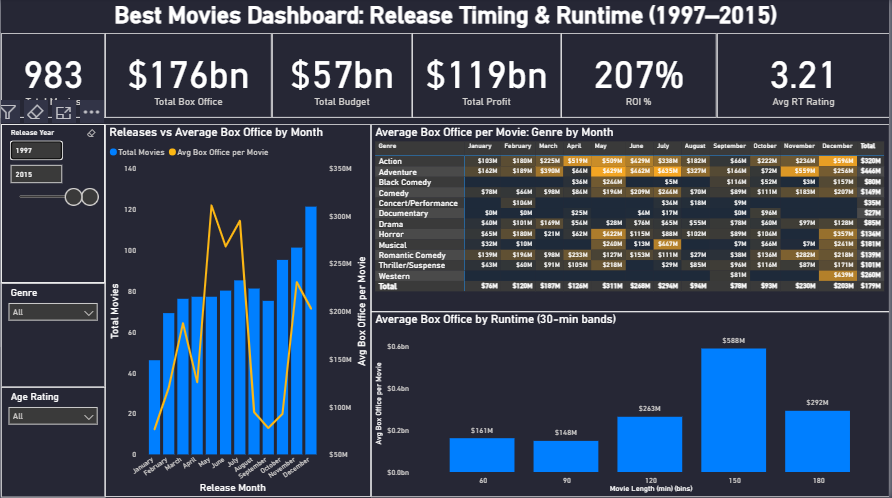

The dashboard page shown, as its layout file describes it:
{"tool":"powerbi","page":{"name":"Release Timing & Runtime","canvas":[1280,720],"ordinal":3},"visuals":[{"type":"textbox","box":[0,0,1280,50.1],"z":0},{"type":"card","fields":{"Values":["Movies Measures.Total Movies"]},"box":[0,50.1,150.4,122.1],"z":1000},{"type":"card","fields":{"Values":["Movies Measures.Total Box Office"]},"box":[150.4,50.1,240.3,122.1],"z":2000},{"type":"card","fields":{"Values":["Movies Measures.Total Budget"]},"box":[390.7,50.1,201.8,122.1],"z":3000},{"type":"card","fields":{"Values":["Movies Measures.Total Profit"]},"box":[592.4,50.1,214.6,122.1],"z":4000},{"type":"card","fields":{"Values":["Movies Measures.ROI %"]},"box":[807.1,50.1,223.6,122.1],"z":5000},{"type":"card","fields":{"Values":["Movies Measures.Avg RT Rating"]},"box":[1030.7,50.1,249.3,122.1],"z":6000},{"type":"slicer","fields":{"Values":["Movies.Release Year"]},"box":[0,181.2,150.4,228.8],"z":7000},{"type":"slicer","fields":{"Values":["Movies.Genre"]},"box":[0,410,150.4,150.4],"z":8000},{"type":"slicer","fields":{"Values":["Movies.Age Rating"]},"box":[0,560.3,150.4,159.4],"z":9000},{"type":"lineClusteredColumnComboChart","title":"Releases vs Average Box Office by Month","fields":{"Category":["Movies.Release Month"],"Y":["Movies Measures.Total Movies"],"Y2":["Movies Measures.Avg Box Office per Movie"]},"box":[149.8,181.4,383,537.1],"z":10000},{"type":"pivotTable","title":"Average Box Office per Movie: Genre by Month","fields":{"Columns":["Movies.Release Month"],"Rows":["Movies.Genre"],"Values":["Movies Measures.Avg Box Office per Movie"]},"box":[532.8,181.4,747.4,270.7],"z":11000},{"type":"clusteredColumnChart","title":"Average Box Office by Runtime (30-min bands)","fields":{"Category":["Movies.Movie Length (min) (bins)"],"Y":["Movies Measures.Avg Box Office per Movie"]},"box":[532.8,450.7,747.4,267.8],"z":12000}]}

Visuals, with their boxes in screenshot pixels (x1, y1, x2, y2), scaled from the page's 1280x720 canvas onto the 892x498 screenshot:
textbox: <region>0, 0, 891, 35</region>
card - Movies Measures.Total Movies: <region>0, 35, 105, 119</region>
card - Movies Measures.Total Box Office: <region>105, 35, 272, 119</region>
card - Movies Measures.Total Budget: <region>272, 35, 413, 119</region>
card - Movies Measures.Total Profit: <region>413, 35, 562, 119</region>
card - Movies Measures.ROI %: <region>562, 35, 718, 119</region>
card - Movies Measures.Avg RT Rating: <region>718, 35, 891, 119</region>
slicer - Movies.Release Year: <region>0, 125, 105, 284</region>
slicer - Movies.Genre: <region>0, 284, 105, 388</region>
slicer - Movies.Age Rating: <region>0, 388, 105, 497</region>
"Releases vs Average Box Office by Month" lineClusteredColumnComboChart: <region>104, 125, 371, 497</region>
"Average Box Office per Movie: Genre by Month" pivotTable: <region>371, 125, 891, 313</region>
"Average Box Office by Runtime (30-min bands)" clusteredColumnChart: <region>371, 312, 891, 497</region>
